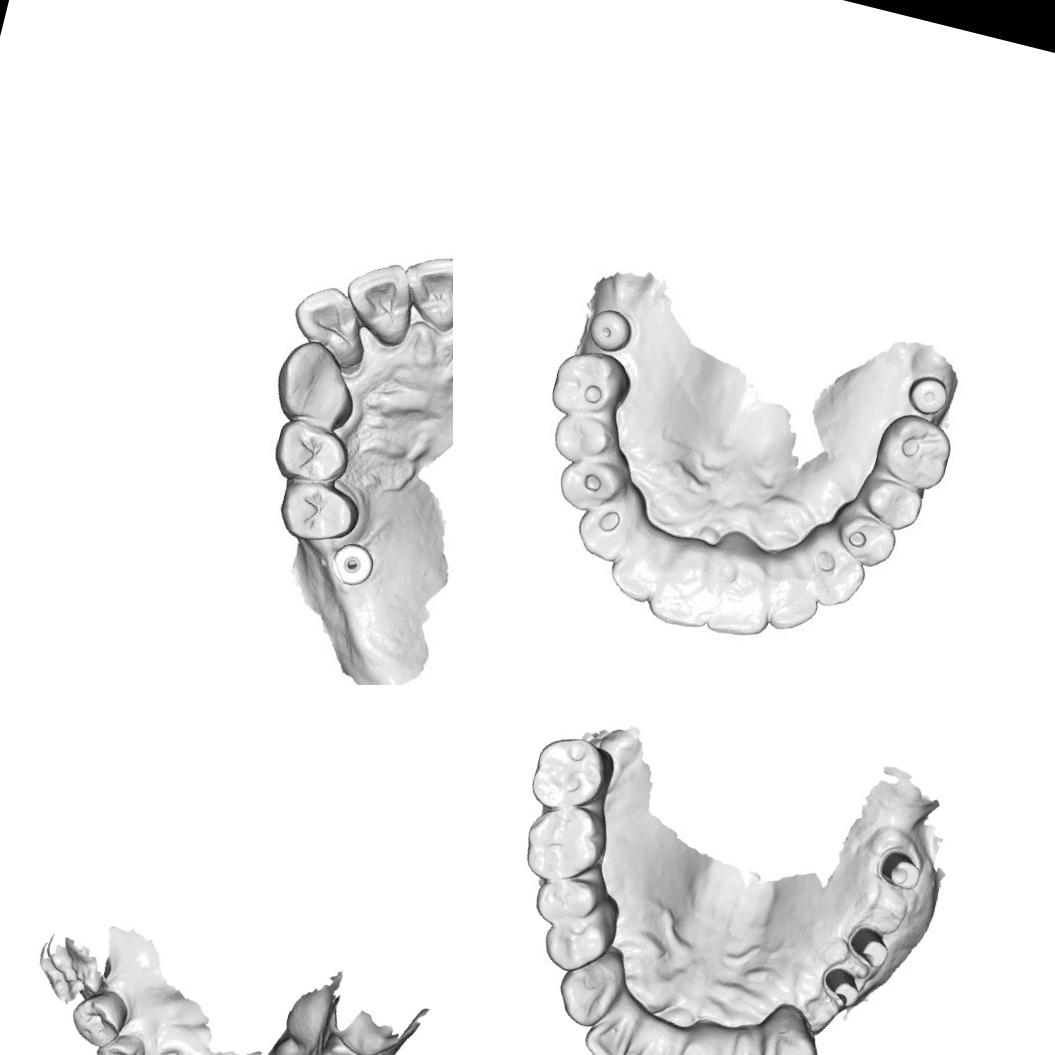abutment: (870, 842, 926, 894), (842, 918, 895, 972), (815, 960, 868, 1012)
canine: (266, 332, 363, 432), (549, 942, 629, 1034), (800, 539, 872, 611), (572, 493, 638, 564), (749, 1012, 827, 1055)
implant: (582, 306, 637, 355), (326, 539, 376, 592), (904, 370, 954, 418)
incisor: (282, 274, 378, 373), (333, 250, 422, 352), (698, 552, 774, 642), (756, 555, 828, 641), (644, 548, 716, 633), (390, 244, 453, 333), (609, 528, 666, 602), (576, 1000, 638, 1055), (610, 1020, 682, 1055), (662, 1037, 736, 1055)
molar: (516, 795, 617, 894), (524, 726, 612, 819), (870, 406, 962, 493), (548, 344, 637, 424)
premolar: (267, 474, 363, 552), (267, 412, 357, 494), (536, 898, 620, 982), (554, 450, 627, 520), (528, 867, 604, 934), (65, 982, 133, 1054), (548, 409, 619, 470), (864, 472, 928, 533), (840, 511, 897, 568), (308, 1030, 389, 1055), (88, 1025, 150, 1055)
